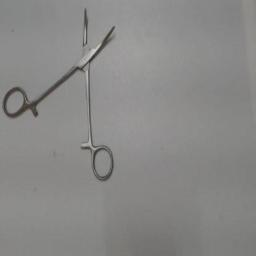Crile Artery Forceps: (0, 4, 120, 184)
